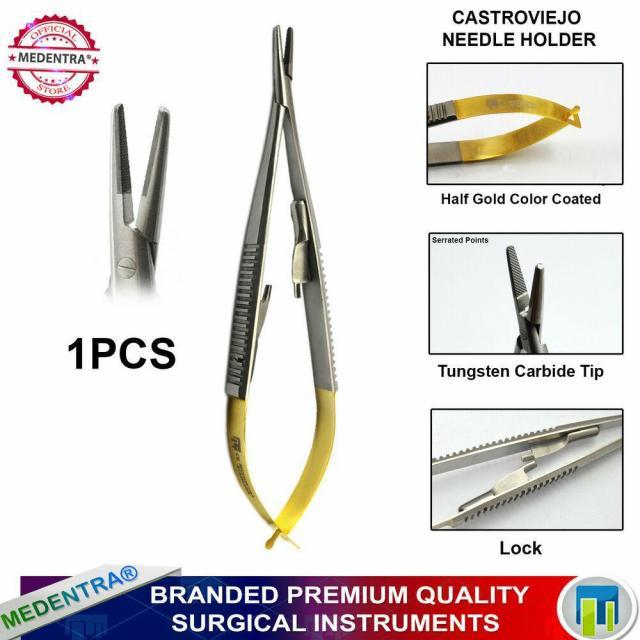Castroviejo: (225, 21, 342, 548), (432, 412, 622, 528), (100, 99, 173, 297), (427, 89, 582, 168), (501, 240, 548, 349)
